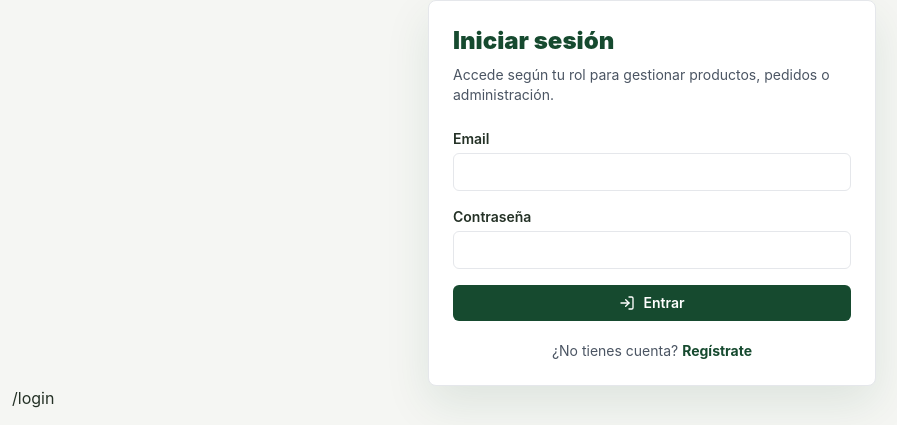
Test case: Login › lleva al comprador al catálogo
Step 1. Type "comprador1@agrotech.com" into the field labelled "Email" → [652, 172], box [453,153,851,191]
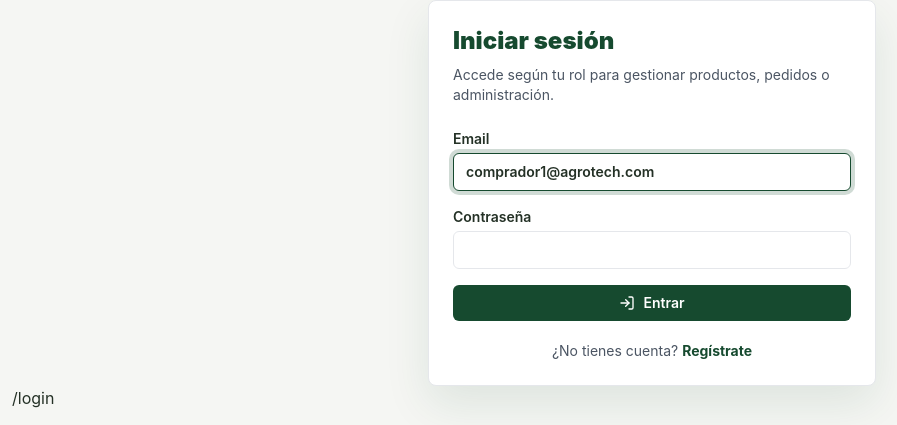
Step 2. Type "Agrotech123" into the password field labelled "Contraseña" → [652, 250], box [453,231,851,269]
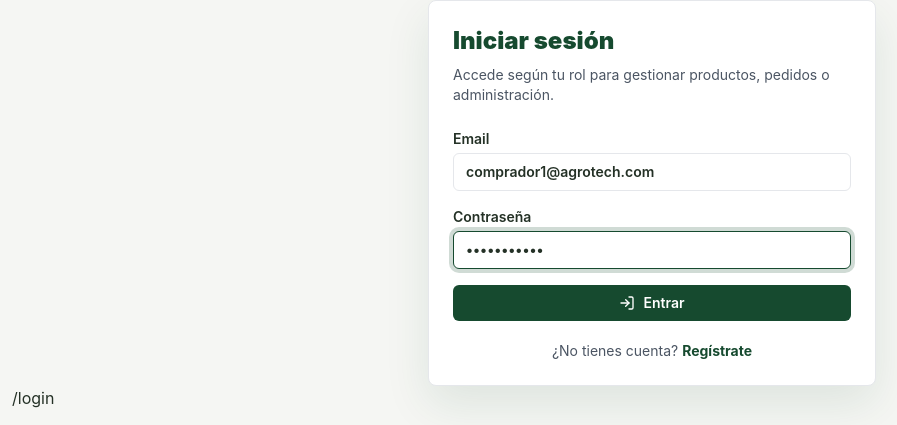
Step 3. Click the button "Entrar" → [652, 303], box [453,285,851,321]
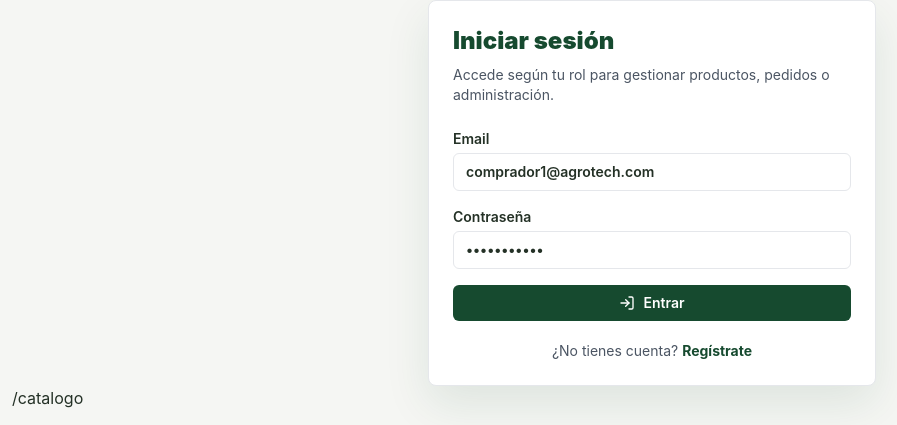
Now the text with test id "location" reads "/catalogo", box [12,388,83,408]
